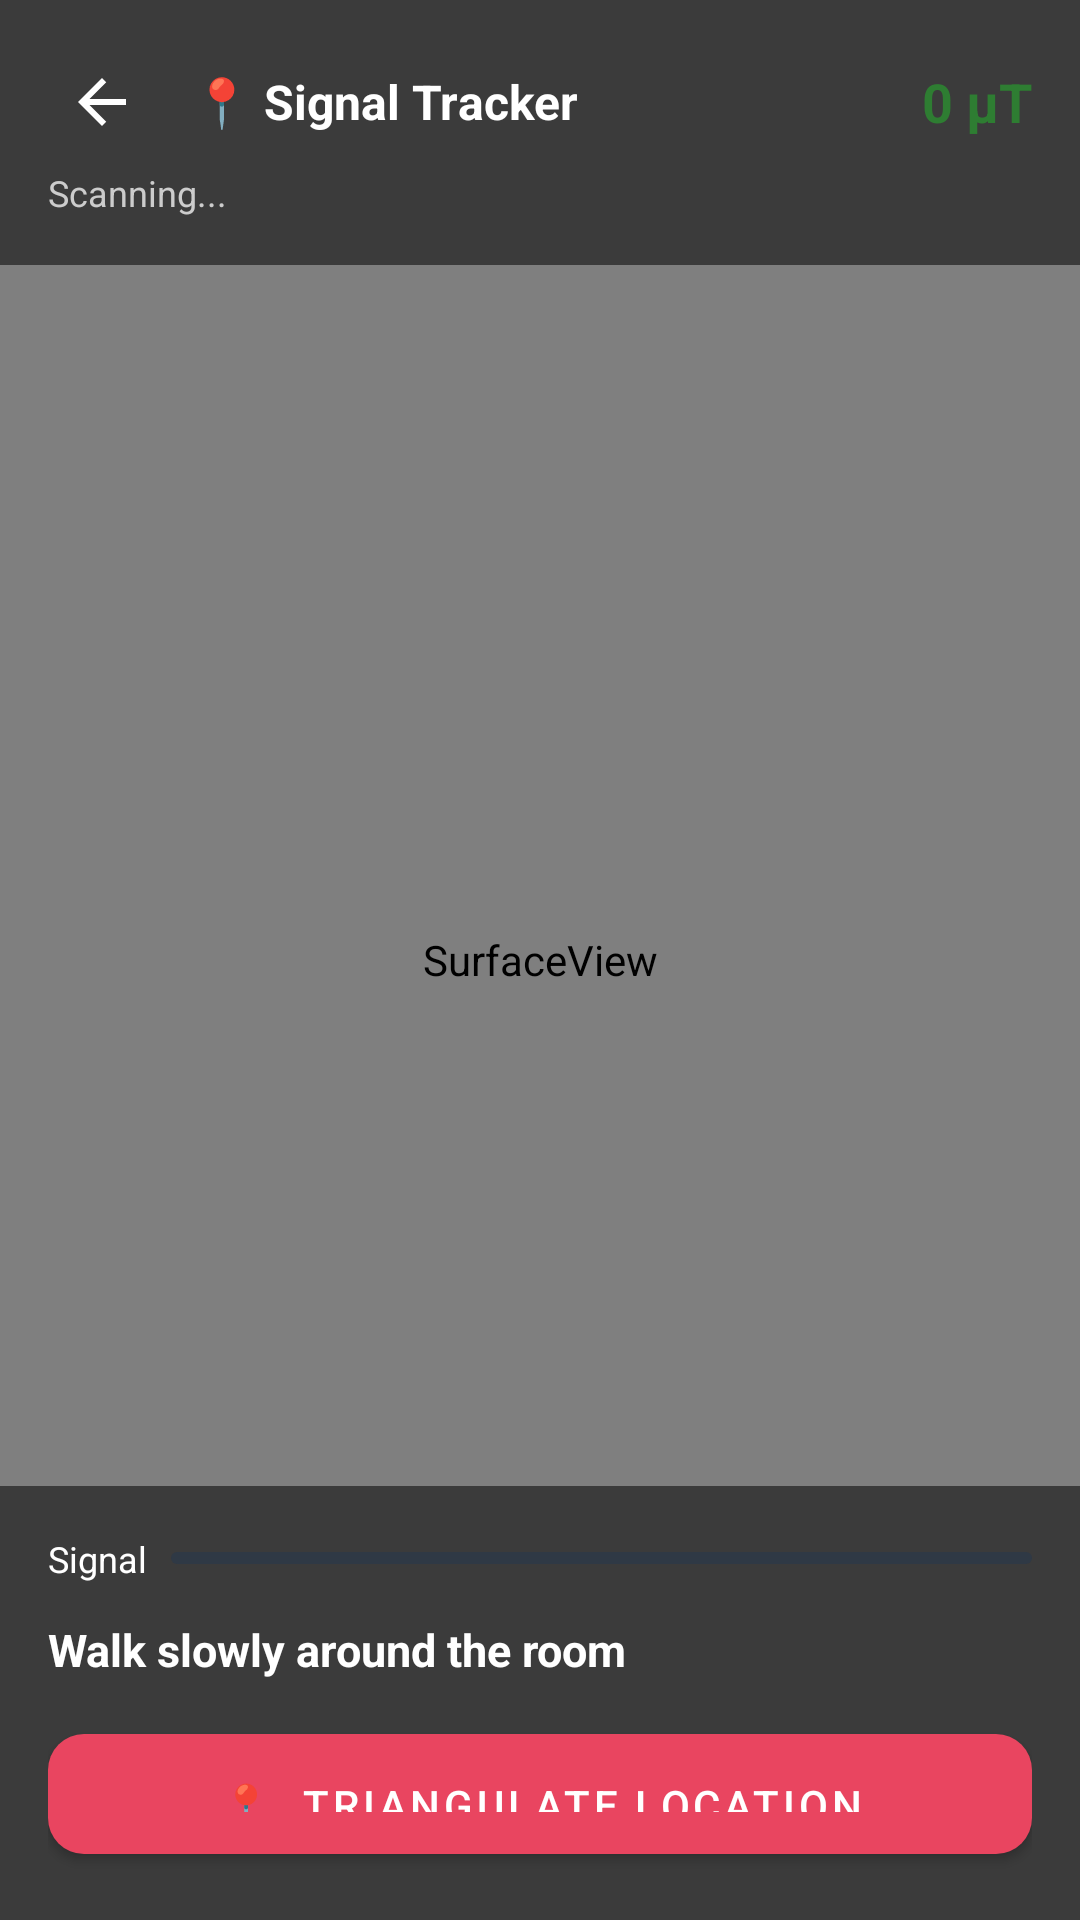

Where to tap for icons on this 1080px×1920px app screen, as [x,y]:
back: [102,102]
